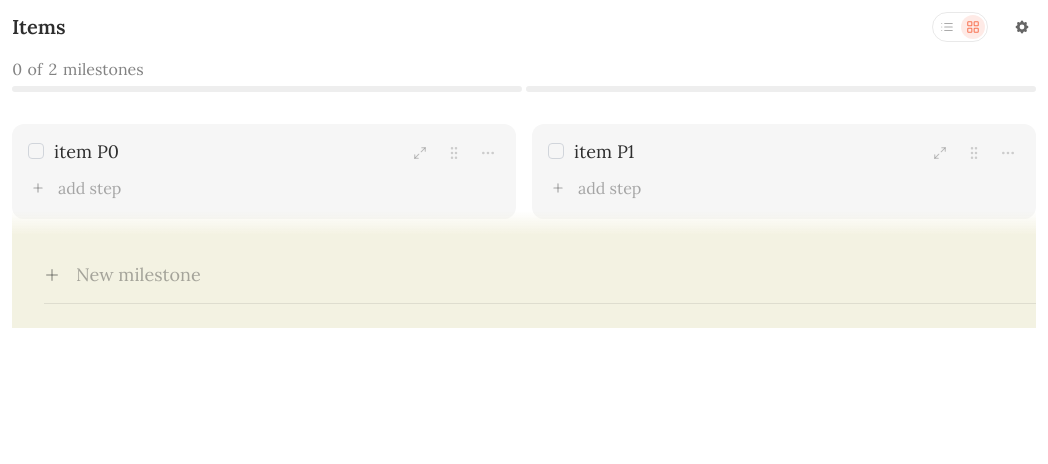
Test case: Todo — deleting an item from the list › should take the deleted row off the list
Expected: the text "item P0" is shown, [54,140,119,163]
Click the button named "Checklist" at (947, 27), box [935,15,959,39]
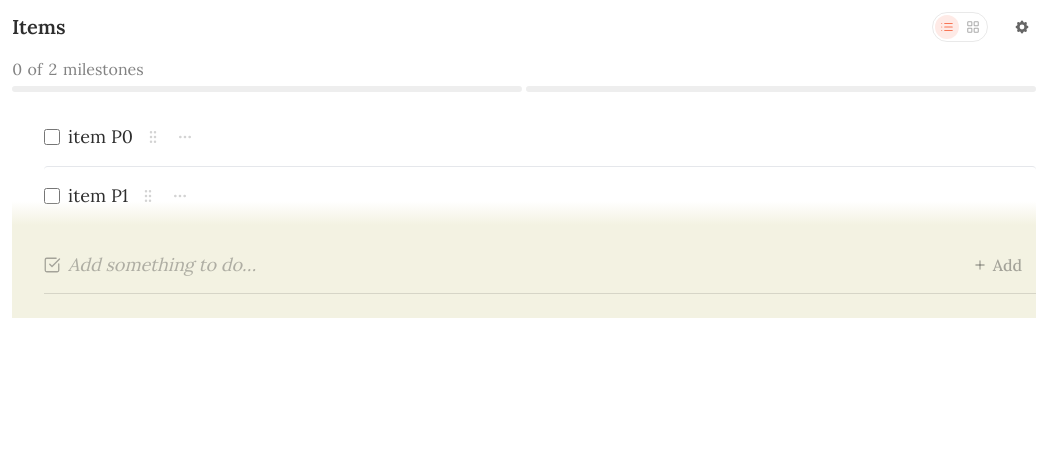
Click the button named "Actions for item P0" at (185, 137), box [173,125,197,149]
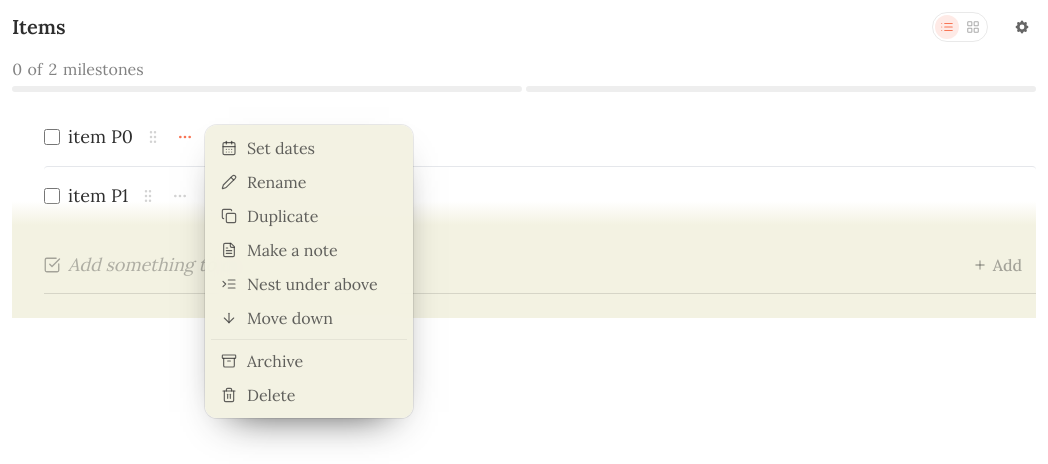
Click the menu item "Delete" at (309, 395), box [211,378,407,412]
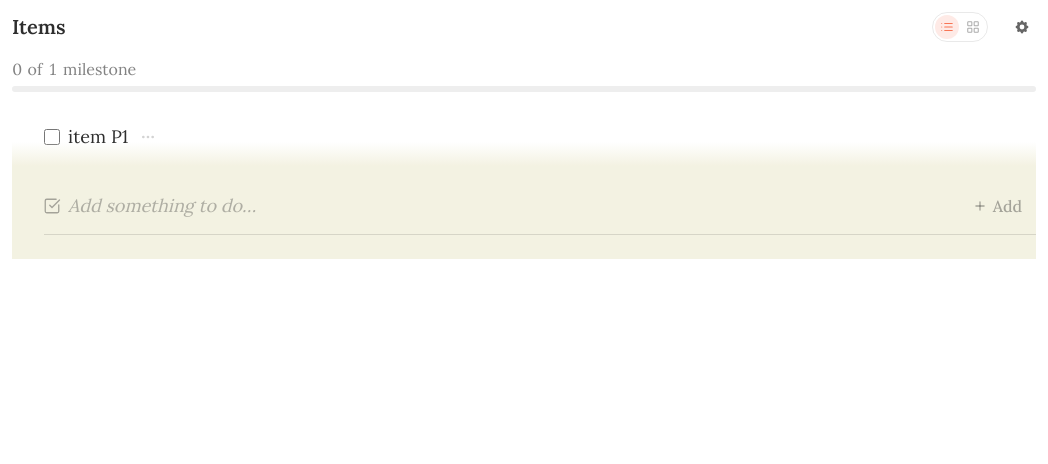
Expected: the text "item P1" is shown, [68,124,128,150]
Result: the text "item P0" is gone
